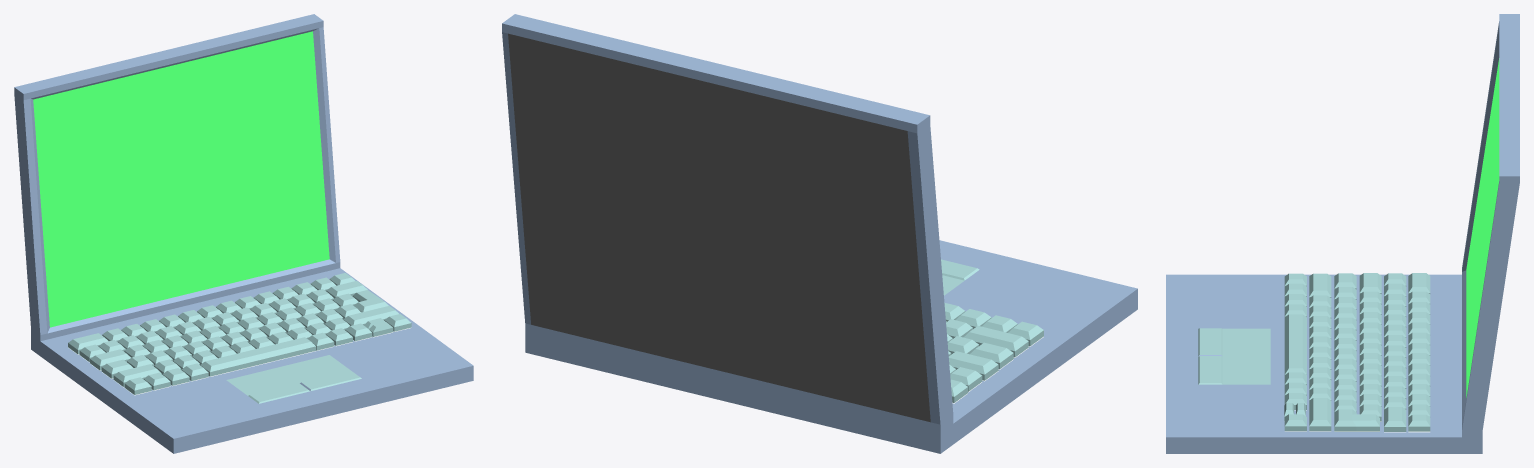
File: laptop.glb
The picture shows the model from 3 angles, left to right: view 1: azimuth 30°, elevation 25°; view 2: azimuth 150°, elevation 25°; view 3: azimuth 270°, elevation 25°; orthographic projection. The views are drawn at different scales.
Visible parts, largest first — view 1: LT_Key_0; view 2: LT_Key_0; view 3: LT_Key_0.
Part boxes in pixels (x1=…): LT_Key_0: x1=14, y1=14, x2=473, y2=453; LT_Key_0: x1=502, y1=14, x2=1137, y2=453; LT_Key_0: x1=1166, y1=14, x2=1519, y2=453.
Size of what is drawn, in the model's own units: 1 by 0.7979 by 0.9219.
